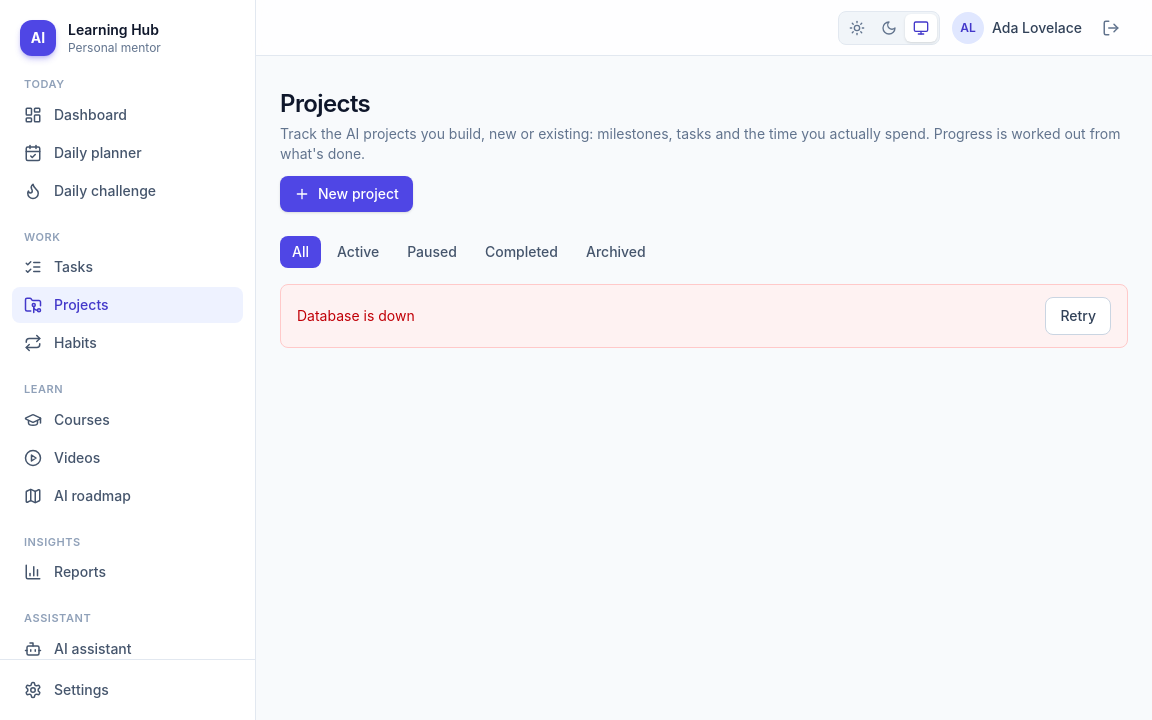
it: projects list › shows the server error and retries
Expected: the message shows "Database is down", [297,307,415,324]
Click the button "Retry" at x=1078, y=316, box [1045,297,1111,335]
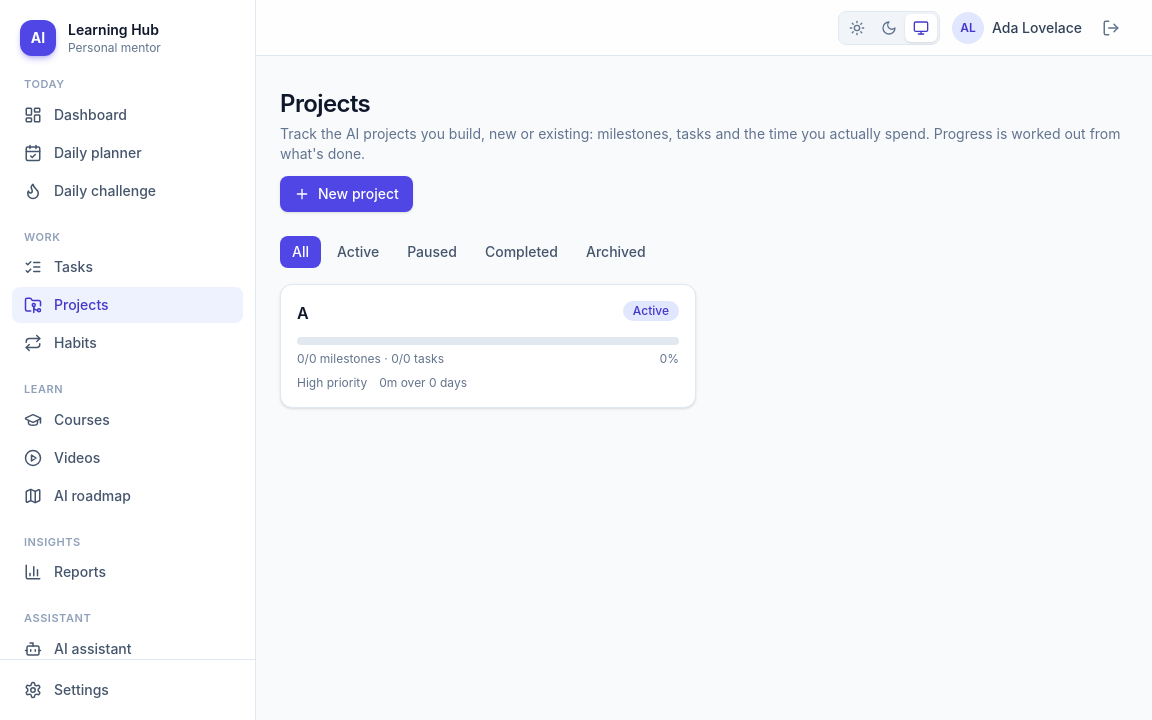
Now the heading "A" is shown, box [297,301,309,325]
